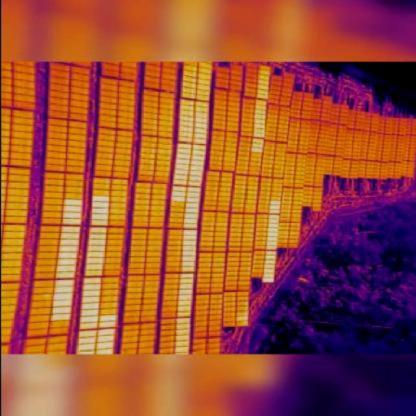anomaly: (168, 61, 214, 202), (81, 198, 116, 354), (174, 201, 202, 355), (51, 198, 84, 321), (261, 198, 284, 284), (253, 65, 272, 152)
